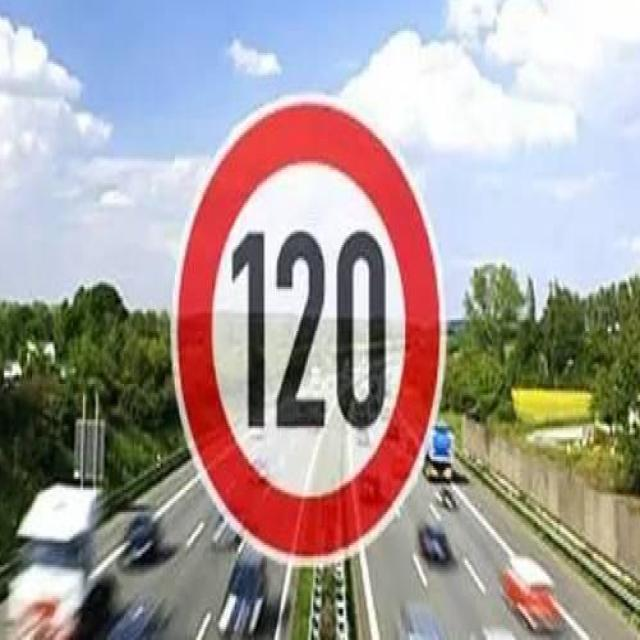speed limit 120: (170, 95, 446, 566)
